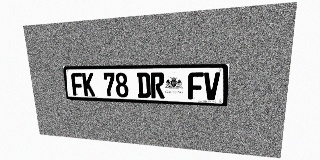7: (102, 73, 116, 97)
8: (115, 73, 129, 97)
D: (137, 72, 151, 98)
F: (188, 72, 203, 100), (71, 73, 84, 96)
K: (82, 73, 95, 96)
R: (150, 72, 165, 99)
V: (204, 72, 220, 100)
